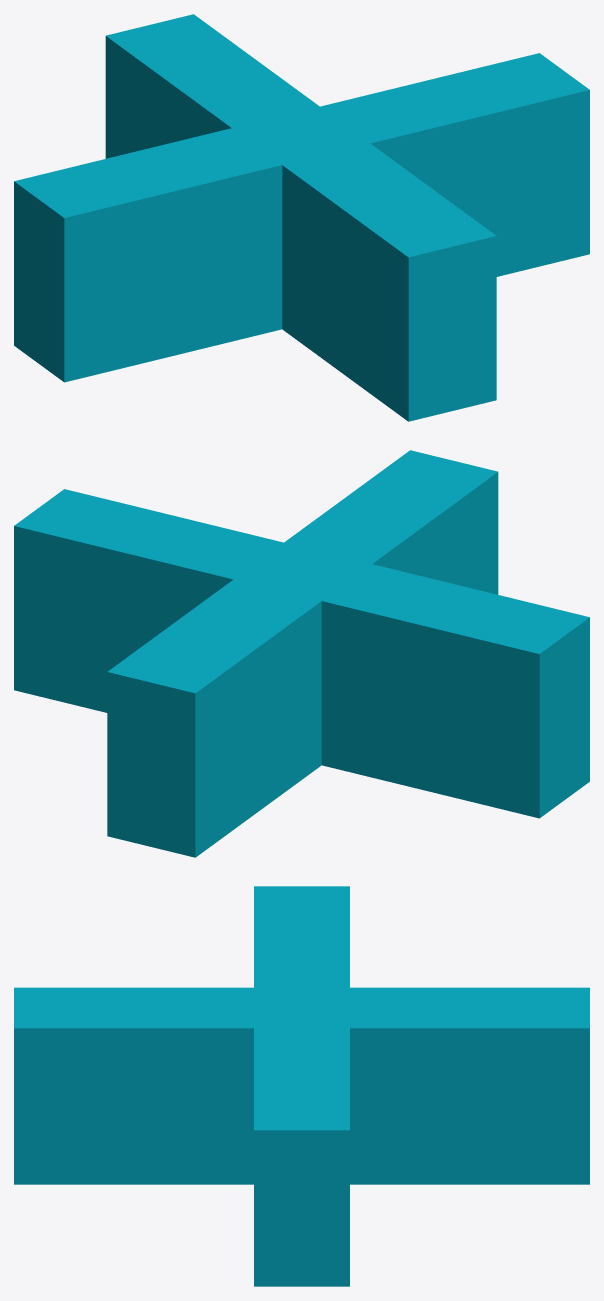
The model's file is pluscounterblue.glb.
3 views of the same model, one above another, from view 1: azimuth 30°, elevation 25°; view 2: azimuth 150°, elevation 25°; view 3: azimuth 270°, elevation 25° (orthographic). The views are drawn at different scales.
Visible parts, largest first — view 1: Mesh_Mesh_head_geo.001_lambert2SG.001; view 2: Mesh_Mesh_head_geo.001_lambert2SG.001; view 3: Mesh_Mesh_head_geo.001_lambert2SG.001.
Part boxes in pixels (left/top/right/bottom): Mesh_Mesh_head_geo.001_lambert2SG.001: left=14, top=14, right=589, bottom=421; Mesh_Mesh_head_geo.001_lambert2SG.001: left=14, top=450, right=589, bottom=857; Mesh_Mesh_head_geo.001_lambert2SG.001: left=14, top=886, right=589, bottom=1286.
Bounding box in the file's own units: 40.16 × 12 × 40.09.
